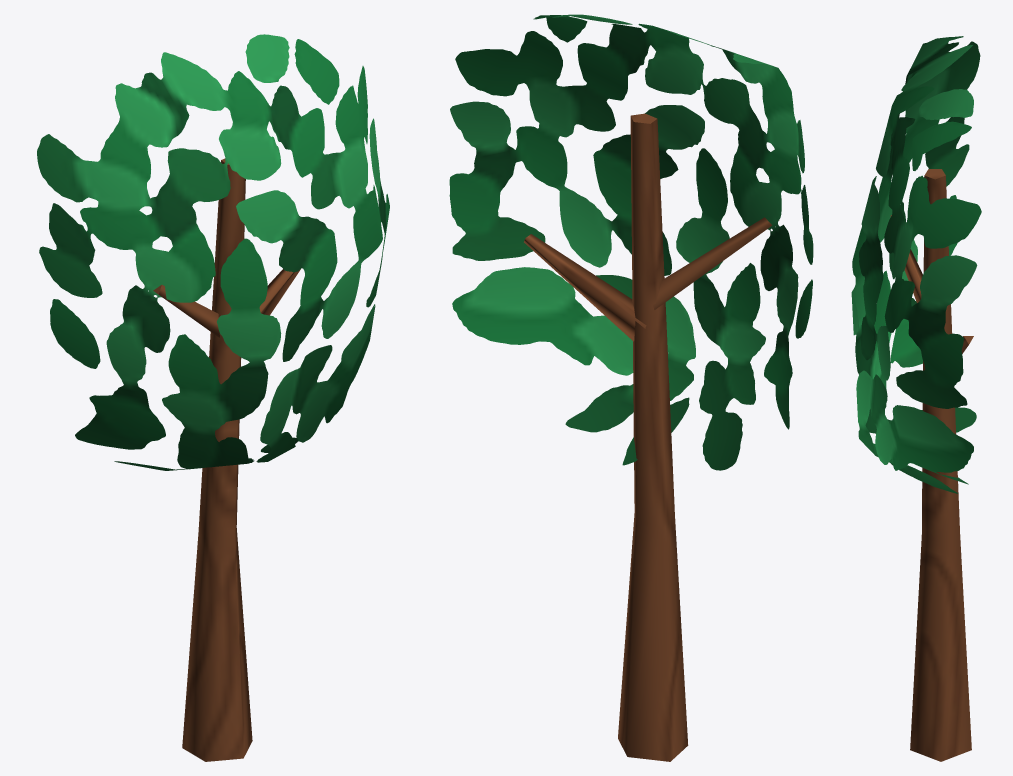
The model's file is building_Herbal_tree.FBX.
3 renders of one model, left to right at view 1: azimuth 30°, elevation 25°; view 2: azimuth 150°, elevation 25°; view 3: azimuth 270°, elevation 25°, orthographic. The views are drawn at different scales.
Parts seen in each view (by area): view 1: building_Herbal_tree; view 2: building_Herbal_tree; view 3: building_Herbal_tree.
Part boxes in pixels (x1=…): building_Herbal_tree: x1=37, y1=34, x2=389, y2=761; building_Herbal_tree: x1=449, y1=14, x2=813, y2=761; building_Herbal_tree: x1=851, y1=36, x2=981, y2=761.
Size of the model in its own units: 140 by 252 by 48.38.
